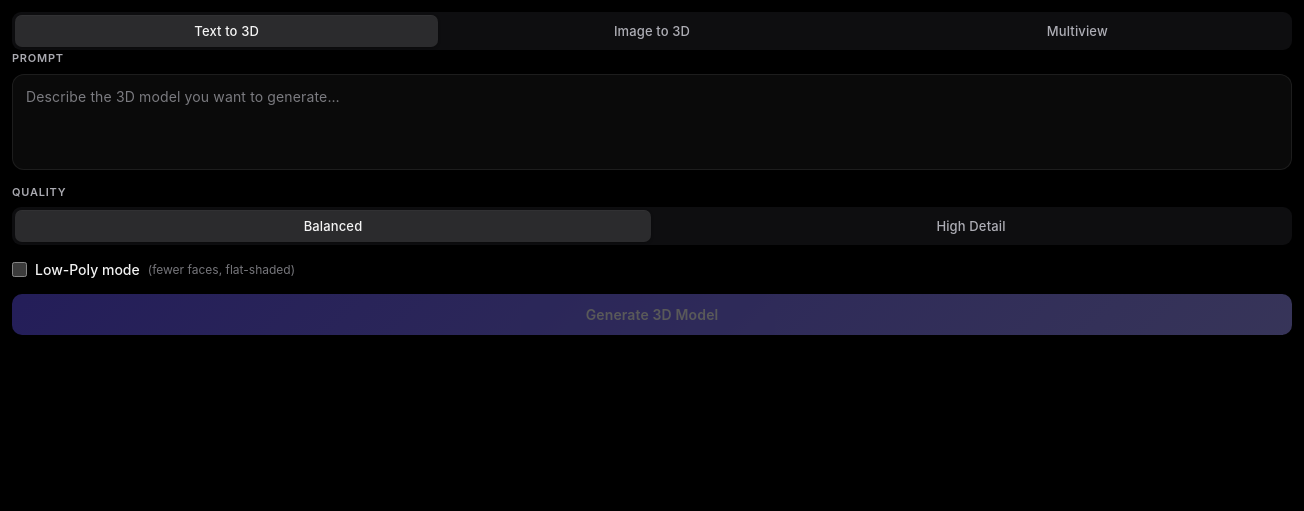
Test: GeneratorForm › switches to Image to 3D tab on click
Click the tab "Image to 3D" at [652, 31], box [440,15,864,47]
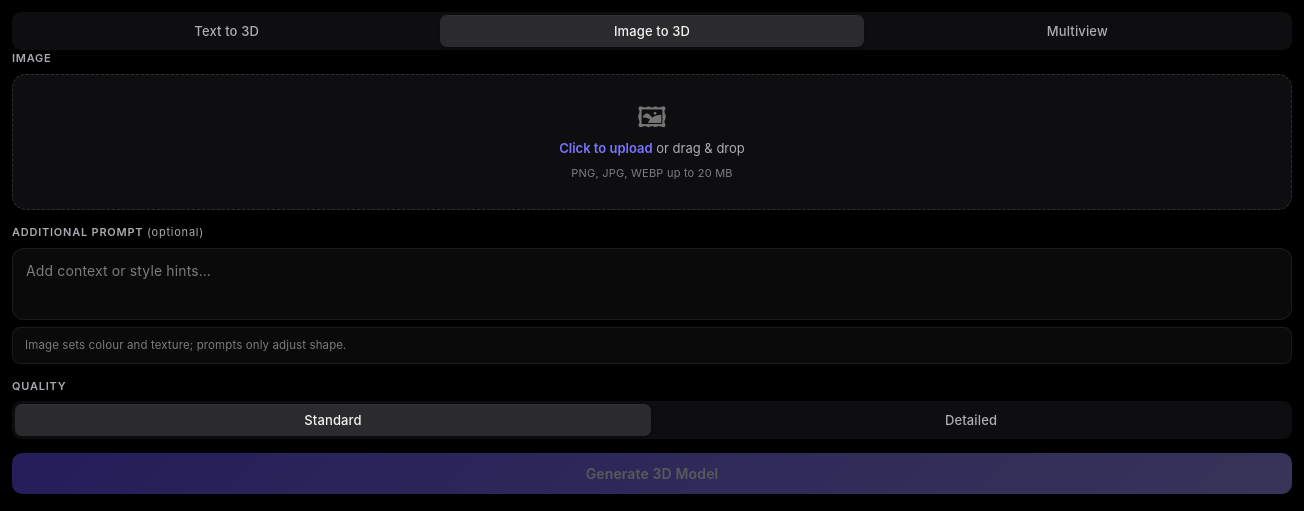
Expected: the field with placeholder "Describe the 3D model" is not shown
Expected: the button with aria-label "Upload image" is shown, [12,74,1292,210]
